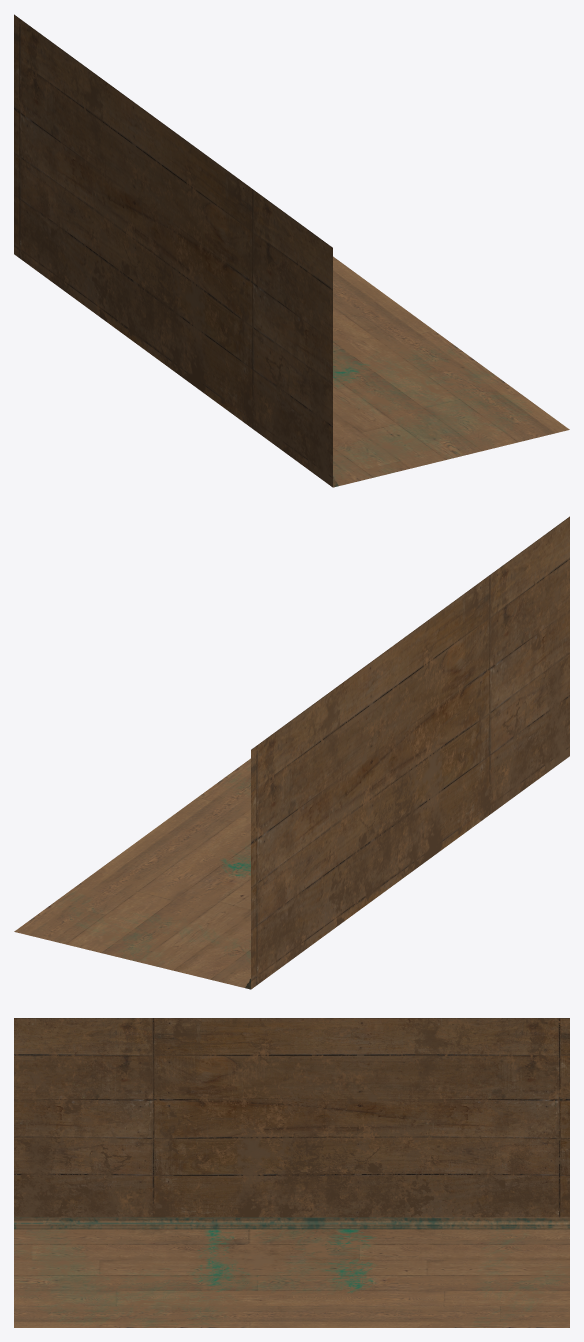
Rendered from fon.fbx.
3 renders of one model, top to bottom at view 1: azimuth 30°, elevation 25°; view 2: azimuth 150°, elevation 25°; view 3: azimuth 270°, elevation 25°, orthographic. The views are drawn at different scales.
Visible parts, largest first — view 1: Plane; view 2: Plane; view 3: Plane.
Part boxes in pixels (x1,y1,x2,y2): Plane: (14,14,569,487); Plane: (14,516,569,989); Plane: (14,1018,569,1327).
Size of the model in its own units: 343 by 332 by 799.
Materials: 1 (1 with a texture image).
